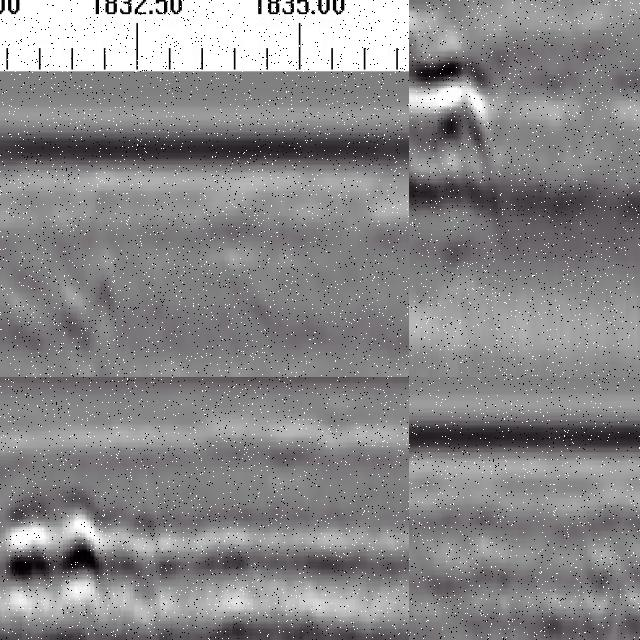crack: (88, 215, 126, 378)
loose: (410, 507, 640, 640), (410, 17, 527, 240), (1, 487, 149, 635)
